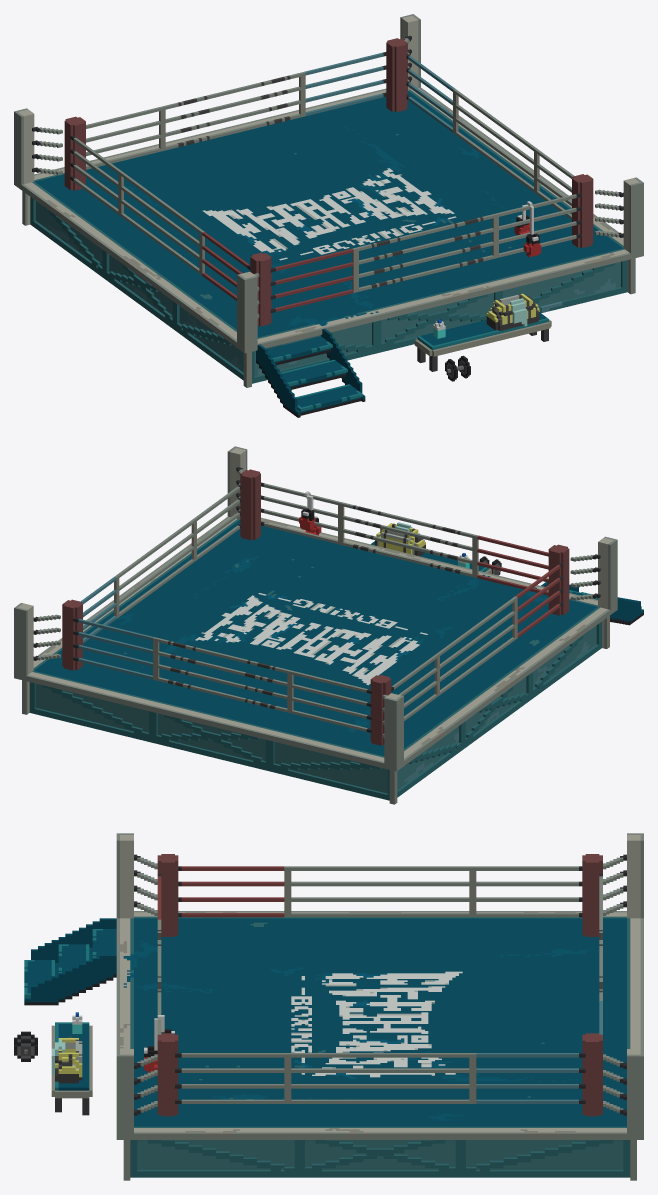
The model's file is boxing_gym.obj.
3 renders of one model, top to bottom at view 1: azimuth 30°, elevation 25°; view 2: azimuth 150°, elevation 25°; view 3: azimuth 270°, elevation 25°, orthographic. The views are drawn at different scales.
Visible parts, largest first — view 1: boxing_gym; view 2: boxing_gym; view 3: boxing_gym.
Part boxes in pixels (<box>): boxing_gym: <box>14,14,643,417</box>; boxing_gym: <box>14,446,643,804</box>; boxing_gym: <box>14,833,643,1180</box>.
Size of the model in its own units: 15.4 by 4.1 by 18.4.
1 material, 1 textured.
